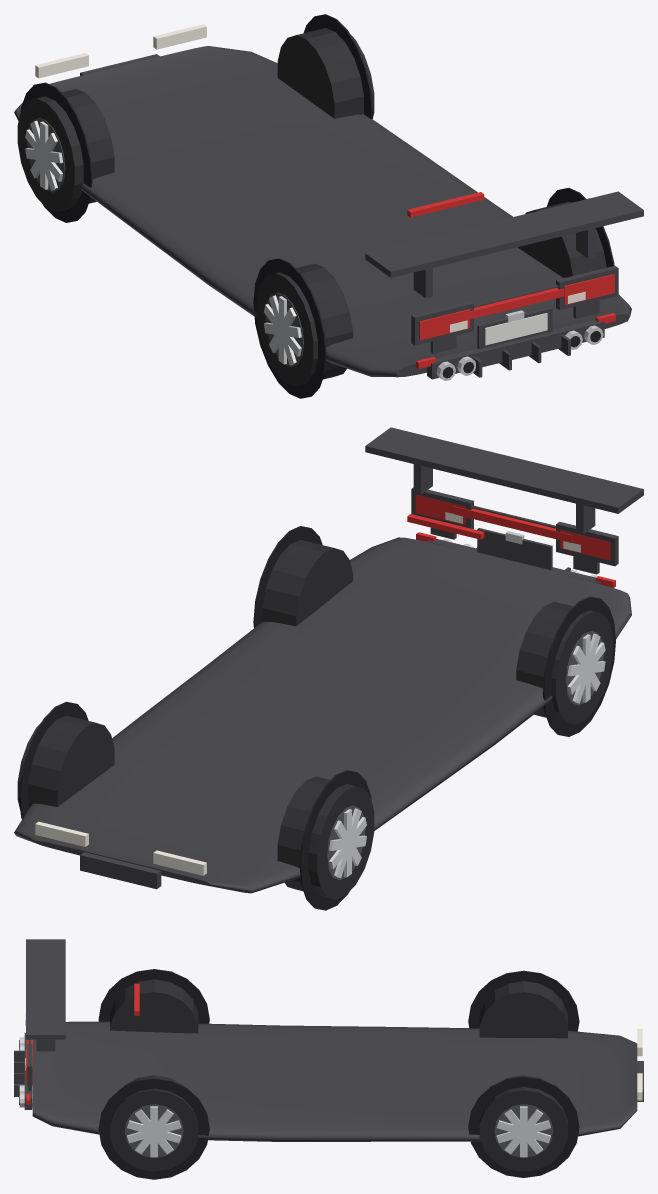
The model's file is sports_trim.glb.
3 renders of one model, top to bottom at view 1: azimuth 30°, elevation 25°; view 2: azimuth 150°, elevation 25°; view 3: azimuth 270°, elevation 25°, orthographic. The views are drawn at different scales.
Bounding box in the file's own units: 2.08 × 1.15 × 4.77.
